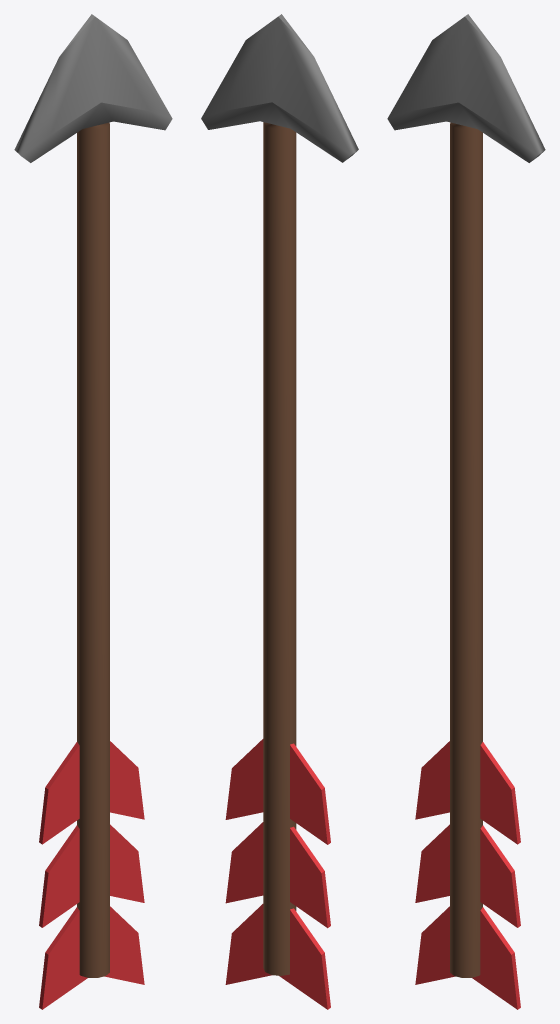
The model's file is frecce.fbx.
3 views of the same model, side by side, from view 1: azimuth 30°, elevation 25°; view 2: azimuth 150°, elevation 25°; view 3: azimuth 330°, elevation 25° (orthographic).
Parts seen in each view (by area): view 1: Cylinder.003, Plane.004, Cube.029; view 2: Cylinder.003, Plane.004, Cube.029; view 3: Cylinder.003, Plane.004, Cube.029.
Boxes of the visible parts, <box> form: Cylinder.003: <box>77,122,109,977</box>; Plane.004: <box>39,741,144,1009</box>; Cube.029: <box>14,14,172,162</box>; Cylinder.003: <box>263,122,296,975</box>; Plane.004: <box>225,739,330,1009</box>; Cube.029: <box>201,14,358,162</box>; Cylinder.003: <box>450,122,482,977</box>; Plane.004: <box>415,741,520,1009</box>; Cube.029: <box>387,14,545,162</box>.
Bounding box in the file's own units: 64.08 × 399 × 12.03.
